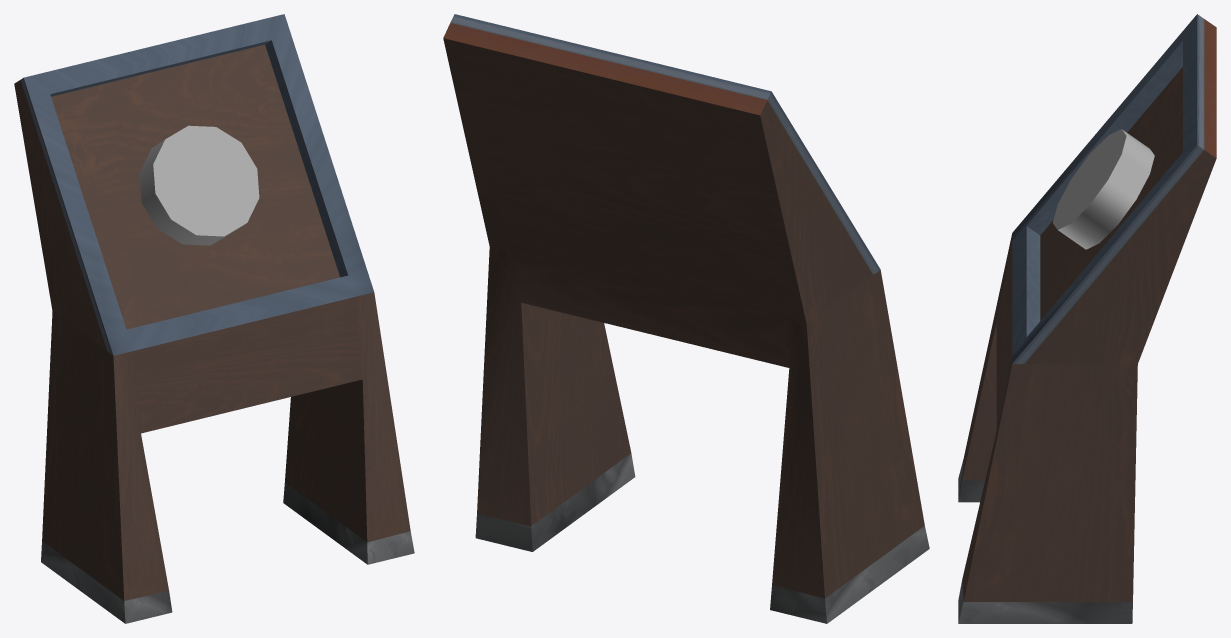
The model's file is JengaButton_Art.fbx.
3 views of the same model, side by side, from view 1: azimuth 30°, elevation 25°; view 2: azimuth 150°, elevation 25°; view 3: azimuth 270°, elevation 25° (orthographic). The views are drawn at different scales.
Visible parts, largest first — view 1: Oktoberfest_EntranceBoard; view 2: Oktoberfest_EntranceBoard; view 3: Oktoberfest_EntranceBoard.
Boxes of the visible parts, box(x1,y1,x2,y2) form: Oktoberfest_EntranceBoard: box(14, 14, 414, 623); Oktoberfest_EntranceBoard: box(443, 14, 929, 623); Oktoberfest_EntranceBoard: box(958, 14, 1216, 623).
Bounding box in the file's own units: 119 × 180 × 89.37.
5 materials, 4 textured.
